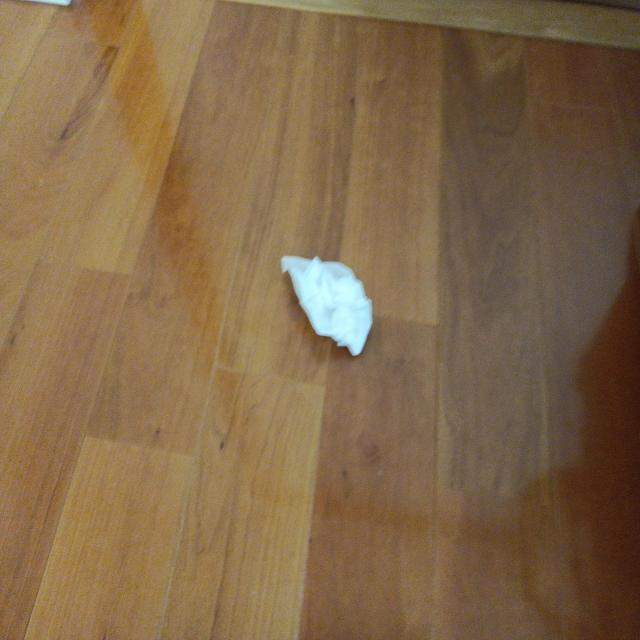衛生紙: (275, 232, 379, 365)
